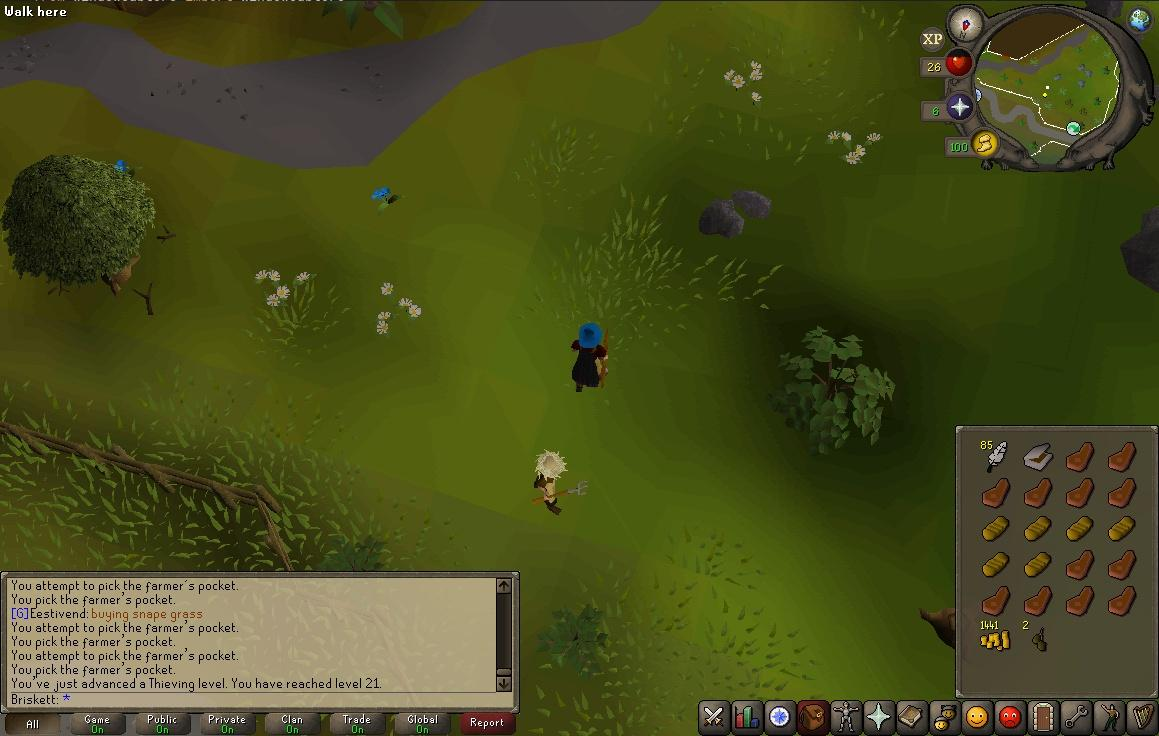Farmer: (532, 450, 570, 514)
